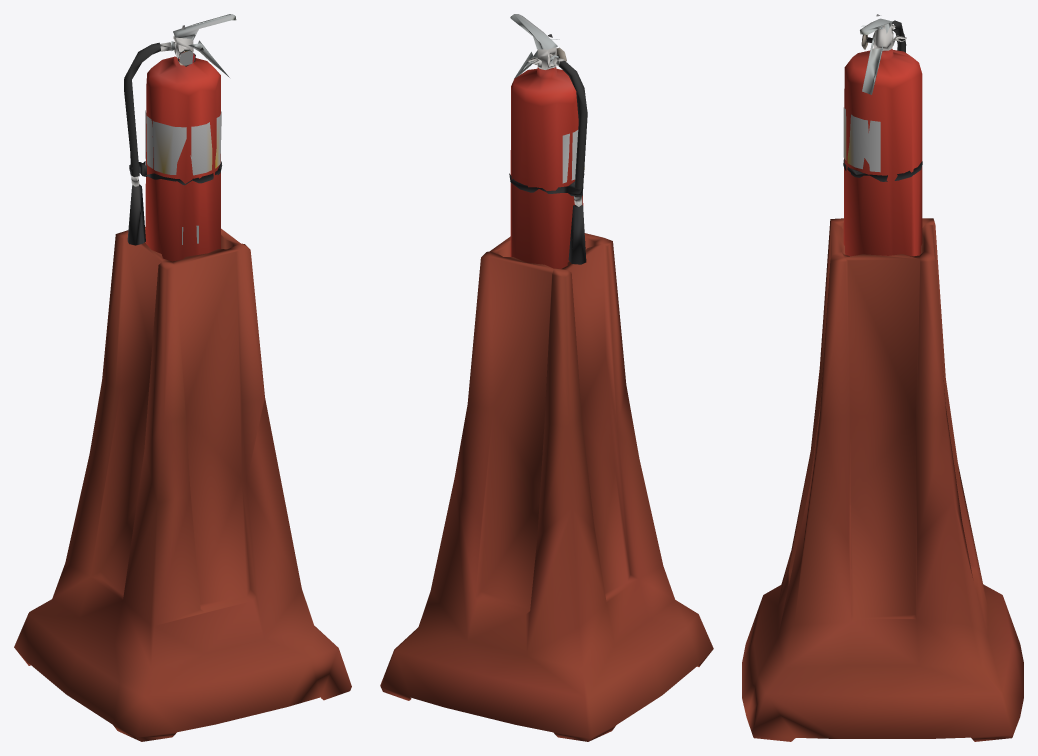
File: fire-stand.glb
3 renders of one model, left to right at view 1: azimuth 30°, elevation 25°; view 2: azimuth 150°, elevation 25°; view 3: azimuth 270°, elevation 25°, orthographic. The views are drawn at different scales.
Visible parts, largest first — view 1: geometry_0; view 2: geometry_0; view 3: geometry_0.
Part boxes in pixels (left/top/right/bottom): geometry_0: left=14, top=14, right=351, bottom=741; geometry_0: left=380, top=14, right=713, bottom=741; geometry_0: left=742, top=14, right=1023, bottom=741.
Size of the model in its own units: 0.4367 by 1.17 by 0.4406.
